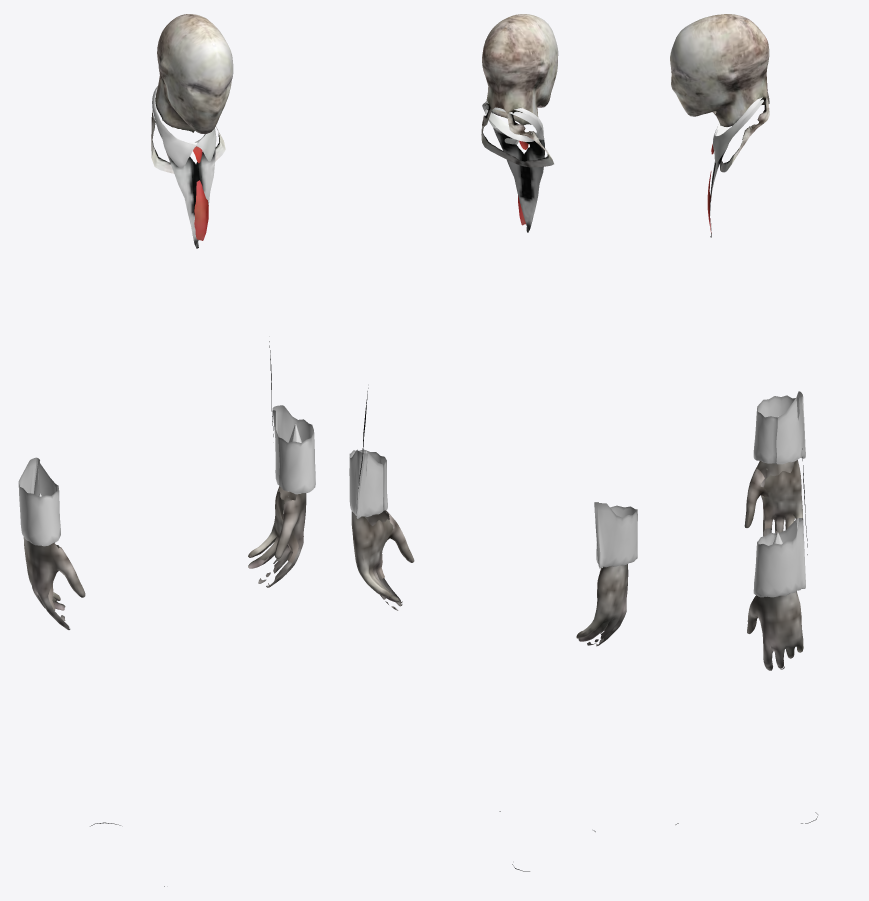
File: Slender Man .fbx
3 views of the same model, side by side, from view 1: azimuth 30°, elevation 25°; view 2: azimuth 150°, elevation 25°; view 3: azimuth 270°, elevation 25° (orthographic). The views are drawn at different scales.
Parts seen in each view (by area): view 1: Slenderman Model_main.001; view 2: Slenderman Model_main.001; view 3: Slenderman Model_main.001.
Part boxes in pixels (x1,y1,x2,y2): Slenderman Model_main.001: [18, 14, 315, 886]; Slenderman Model_main.001: [349, 14, 637, 871]; Slenderman Model_main.001: [670, 14, 817, 824].
Size of the model in its own units: 127 by 348 by 69.08.
